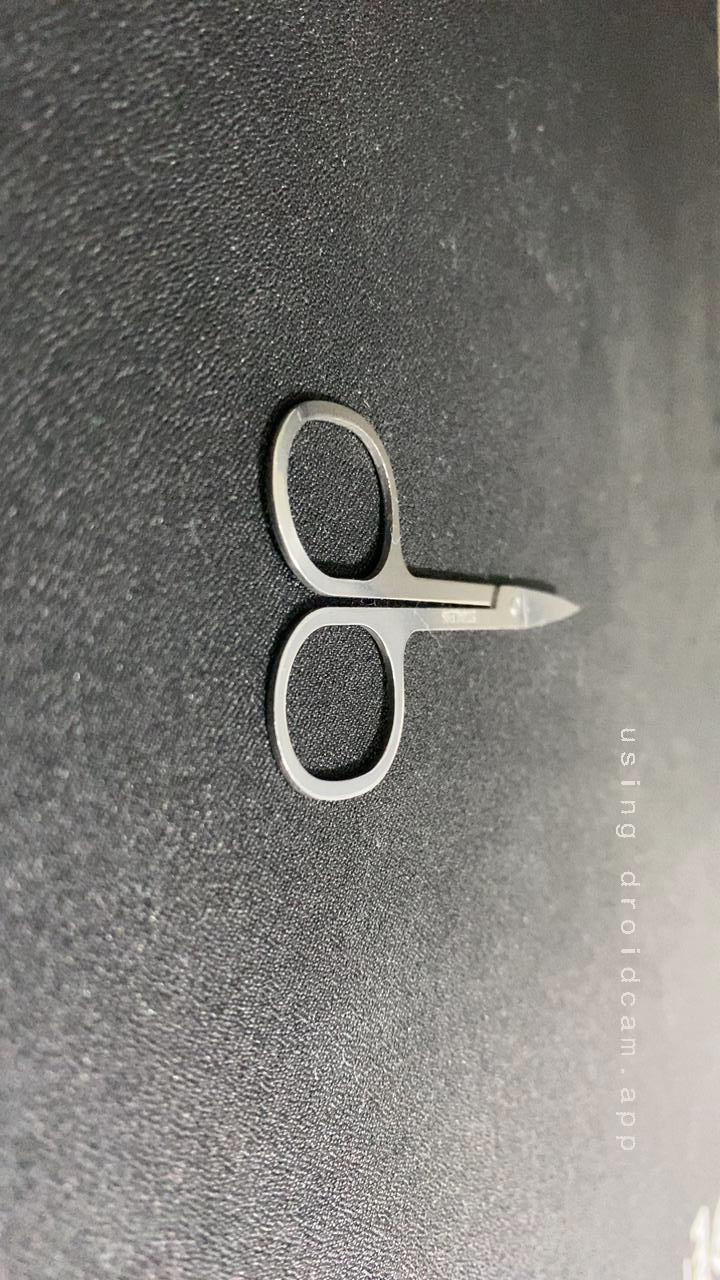scissor: (205, 377, 423, 604)
